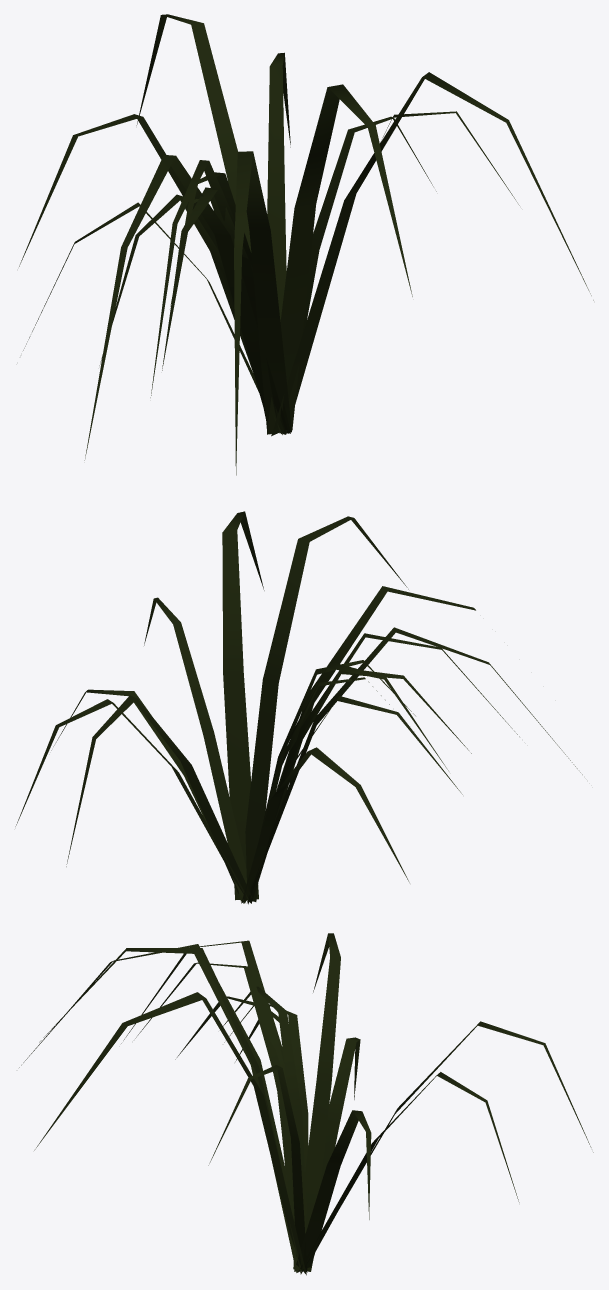
File: weeds_-02-03_foliage.dae
The picture shows the model from 3 angles, top to bottom: view 1: azimuth 30°, elevation 25°; view 2: azimuth 150°, elevation 25°; view 3: azimuth 270°, elevation 25°; orthographic projection. The views are drawn at different scales.
Parts seen in each view (by area): view 1: weeds_-02-03_foliage; view 2: weeds_-02-03_foliage; view 3: weeds_-02-03_foliage.
Boxes of the visible parts, <box> form: weeds_-02-03_foliage: <box>19,14,593,475</box>; weeds_-02-03_foliage: <box>15,511,582,904</box>; weeds_-02-03_foliage: <box>19,933,593,1275</box>.
Size of the model in its own units: 0.2375 by 0.292 by 0.1762.
